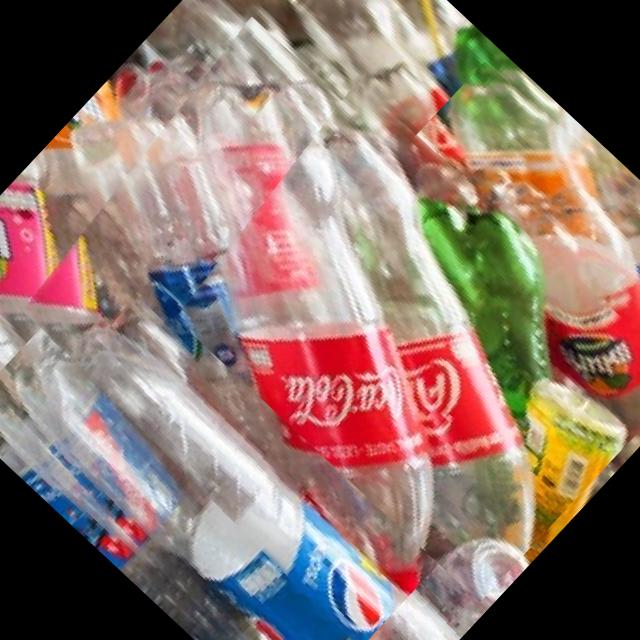plastic bottle: (0, 274, 469, 640), (183, 69, 454, 624), (301, 123, 550, 597), (420, 105, 640, 457)
